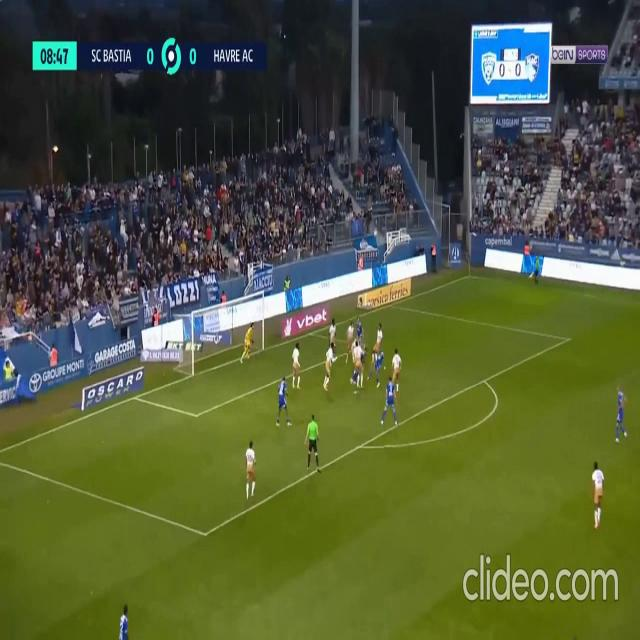goalkeeper: (240, 325, 257, 365)
player: (591, 460, 605, 528), (305, 411, 320, 471), (381, 374, 397, 428), (615, 384, 628, 443), (277, 374, 290, 430), (366, 342, 381, 388), (246, 440, 257, 500), (351, 340, 364, 390), (117, 604, 132, 639), (390, 348, 402, 389), (344, 320, 355, 364), (292, 342, 302, 388), (324, 343, 334, 388), (329, 320, 338, 363), (373, 323, 383, 360), (353, 316, 363, 349)
referee: (305, 411, 321, 473), (531, 248, 541, 288)
